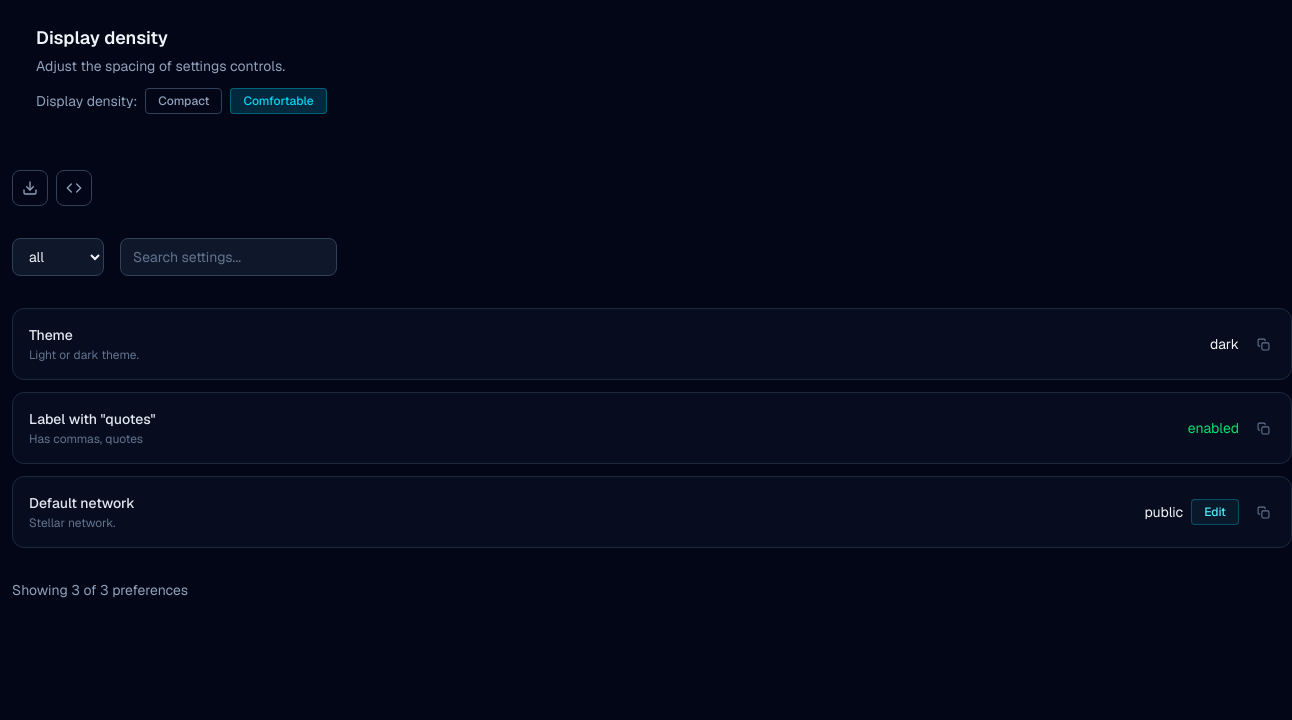
Scenario: Settings page — theme export controls › empty view — no download triggered › announces 'no settings to export' when the filter view is empty
Type "zzz-no-match-zzz" into the search field with test id "settings-search-filter" at (228, 257), box [120,238,337,276]
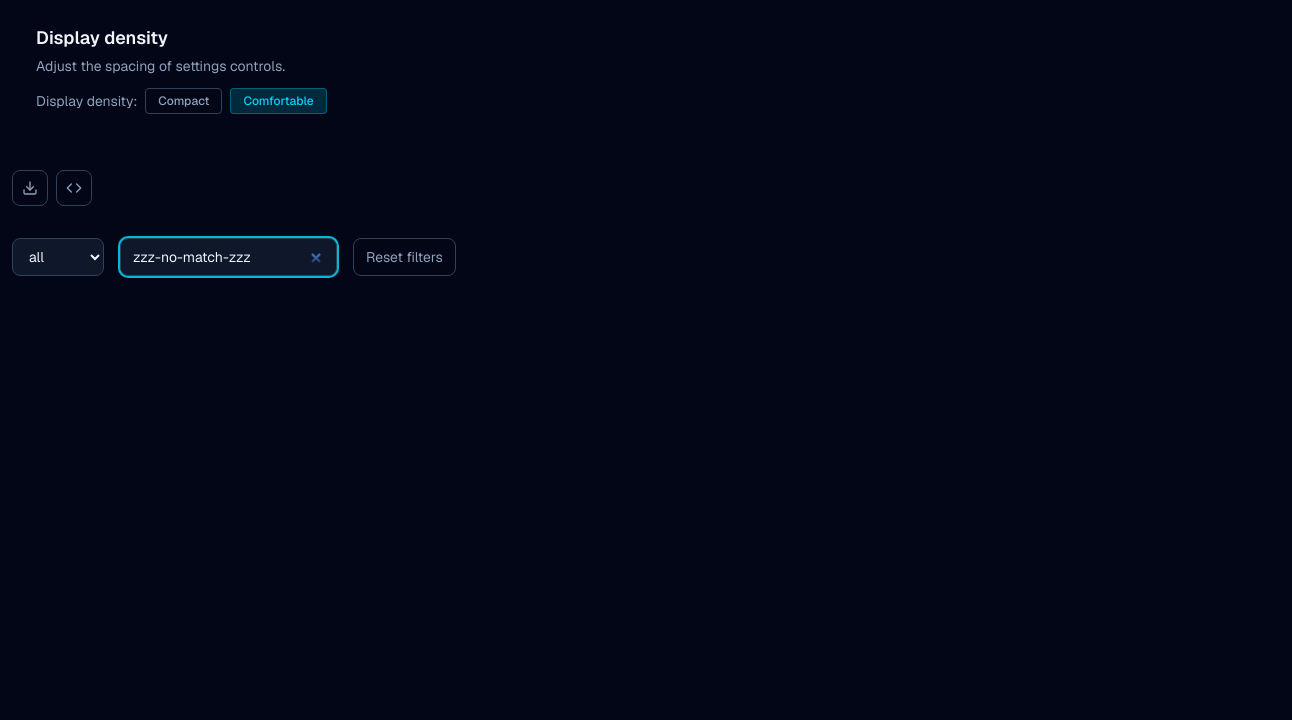
Click the button with test id "export-json-btn" at (74, 188), box [56,170,92,206]
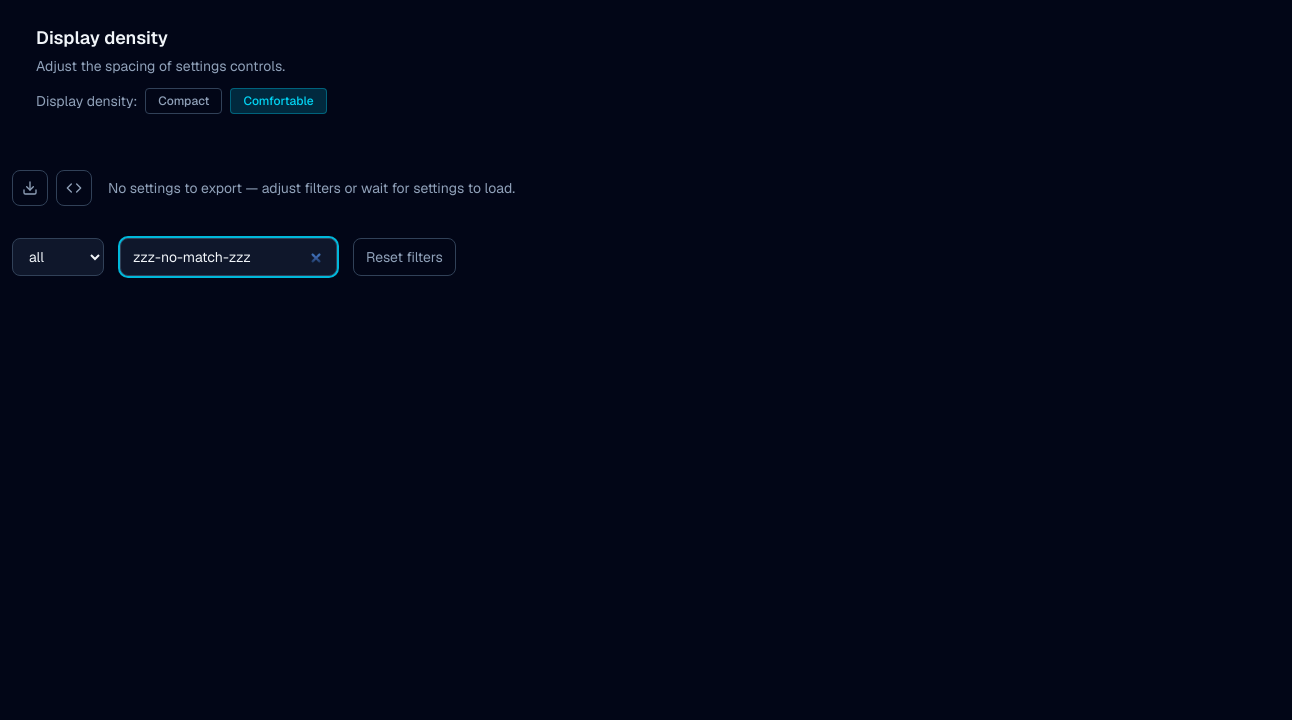
expect the text with test id "export-announce" reads "No settings to export — adjust filters or wait for settings to load.": met, box [108,179,515,197]
